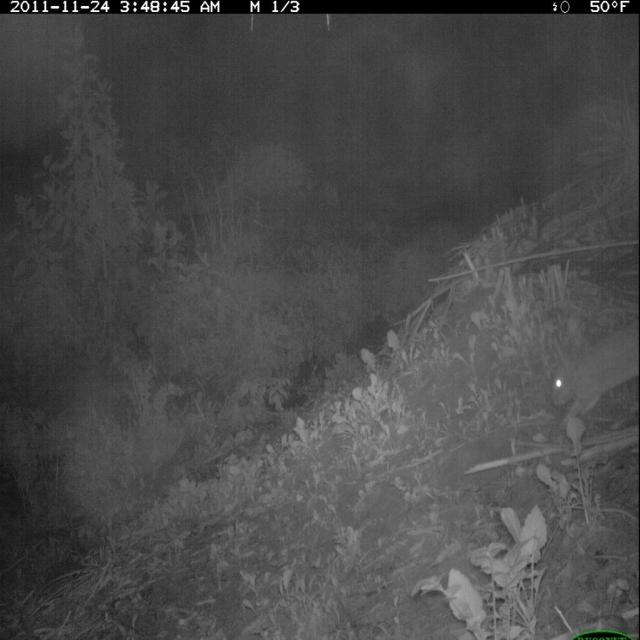rabbit: (545, 320, 639, 435)
